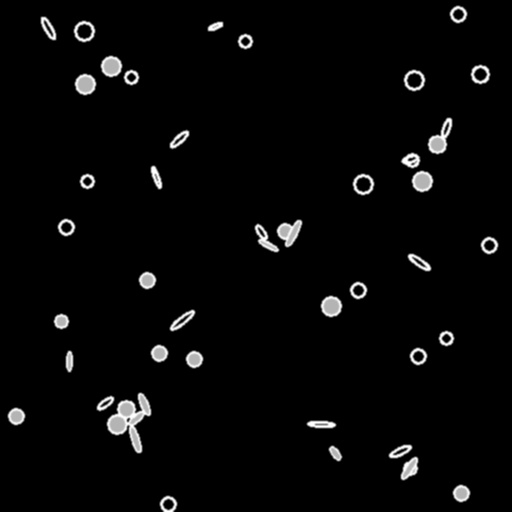pseudomonas: (169, 309, 195, 331), (284, 219, 302, 247), (399, 456, 419, 480), (168, 129, 190, 149), (39, 16, 57, 40), (407, 253, 431, 271), (128, 425, 142, 453), (389, 443, 411, 459), (137, 392, 151, 416), (127, 409, 145, 427), (95, 395, 115, 411), (439, 117, 453, 139), (150, 165, 162, 189), (258, 238, 278, 252), (254, 223, 268, 241), (328, 445, 342, 461), (401, 154, 419, 164), (307, 421, 335, 427), (207, 21, 223, 31), (66, 352, 72, 370)
synechocystis: (75, 22, 93, 40), (413, 172, 431, 190), (322, 297, 340, 315), (102, 57, 120, 75), (354, 175, 372, 193), (405, 71, 423, 89), (76, 75, 94, 93), (108, 415, 126, 433), (472, 66, 488, 82), (429, 136, 445, 152), (118, 401, 134, 417), (140, 273, 154, 287), (411, 349, 425, 363), (59, 220, 73, 234), (9, 409, 23, 423), (278, 224, 292, 238), (454, 486, 468, 500), (351, 283, 365, 297), (152, 346, 166, 360), (187, 352, 201, 366), (451, 7, 465, 21), (161, 497, 175, 511), (482, 238, 496, 252), (125, 71, 137, 83), (440, 332, 452, 344), (239, 35, 251, 47), (81, 175, 93, 187), (404, 462, 416, 474), (406, 154, 418, 166), (55, 315, 67, 327)
